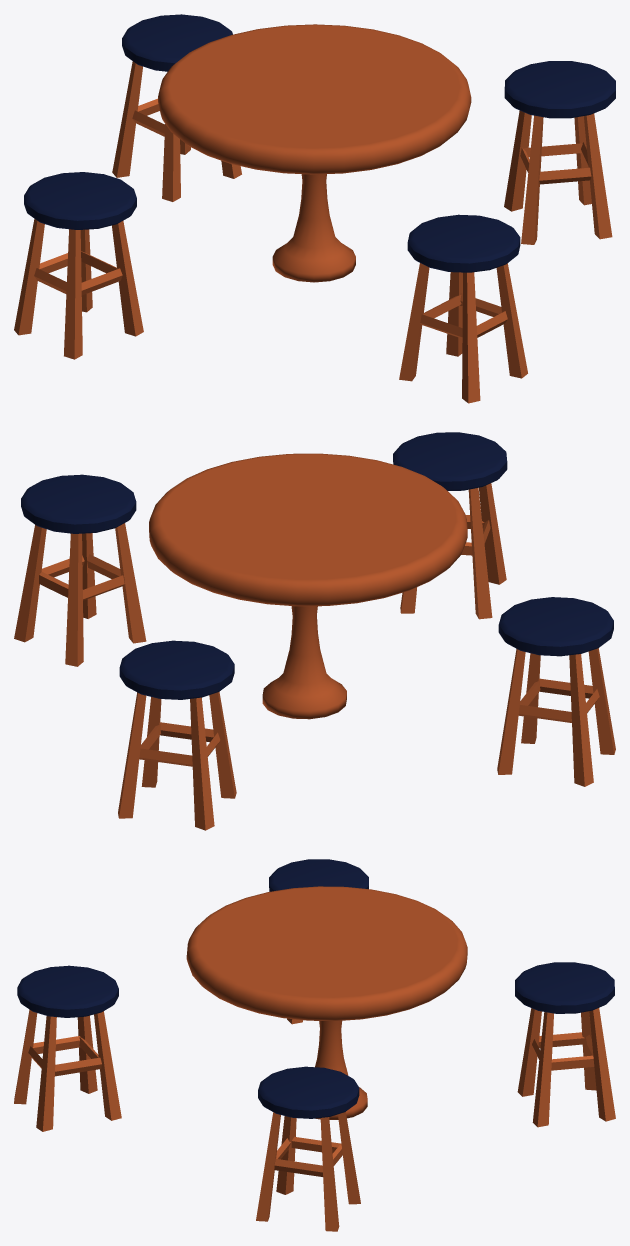
Rendered from Table.fbx.
3 renders of one model, top to bottom at view 1: azimuth 30°, elevation 25°; view 2: azimuth 150°, elevation 25°; view 3: azimuth 270°, elevation 25°, orthographic. The views are drawn at different scales.
Parts seen in each view (by area): view 1: Cylinder.039, Cylinder.038; view 2: Cylinder.039, Cylinder.038; view 3: Cylinder.039, Cylinder.038.
Boxes of the visible parts, x1,y1,x2,y2 form: Cylinder.039: (14, 14, 615, 403); Cylinder.038: (158, 24, 471, 282); Cylinder.039: (14, 432, 615, 830); Cylinder.038: (149, 453, 467, 719); Cylinder.039: (14, 859, 615, 1231); Cylinder.038: (186, 886, 467, 1119).
Size of the model in its own units: 341 by 346 by 105.
